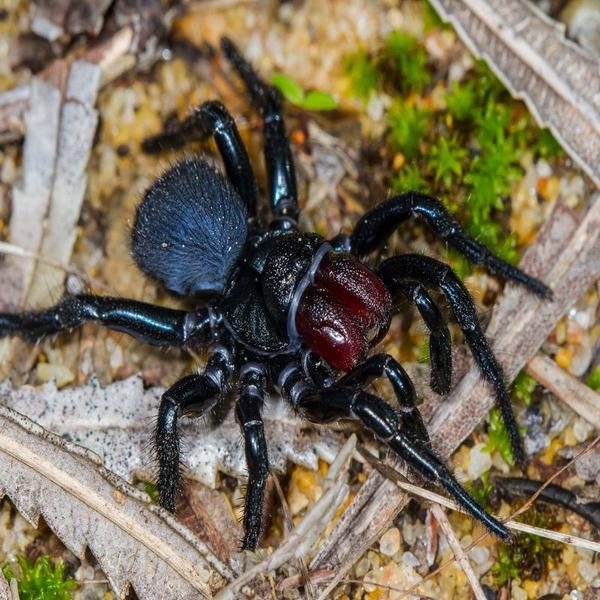Red Headed Mouse Spider: (28, 53, 548, 534)
